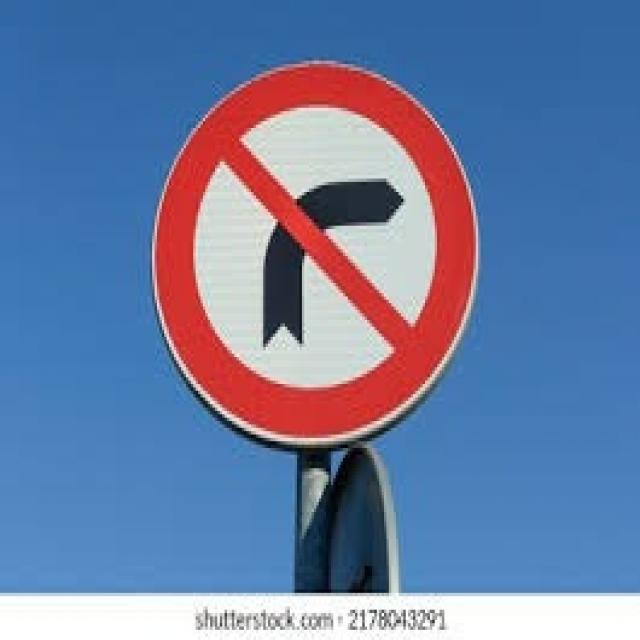do_not_turn_right: (146, 49, 484, 452)
